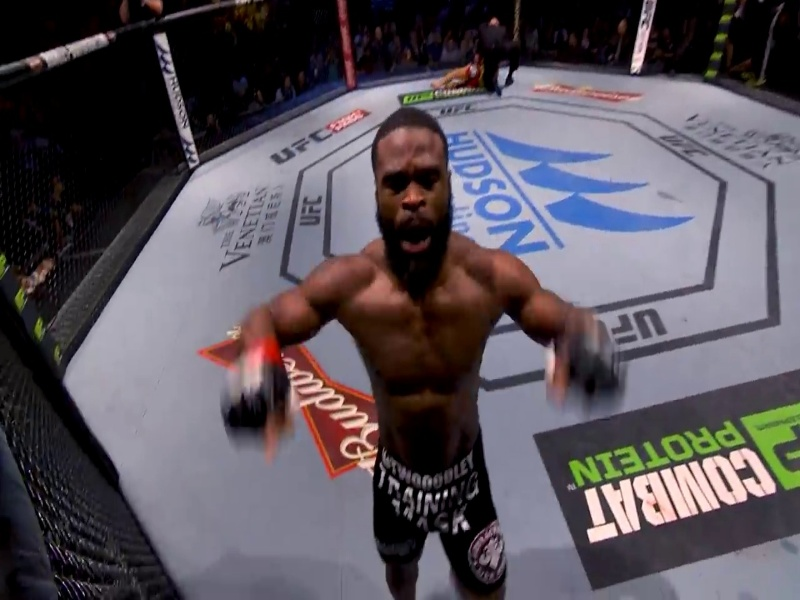fighter: (206, 102, 645, 600)
